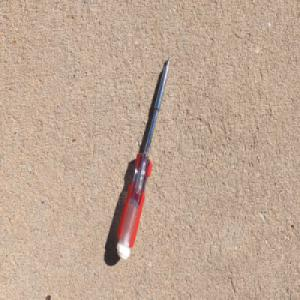Screwdriver: (115, 54, 172, 261)
